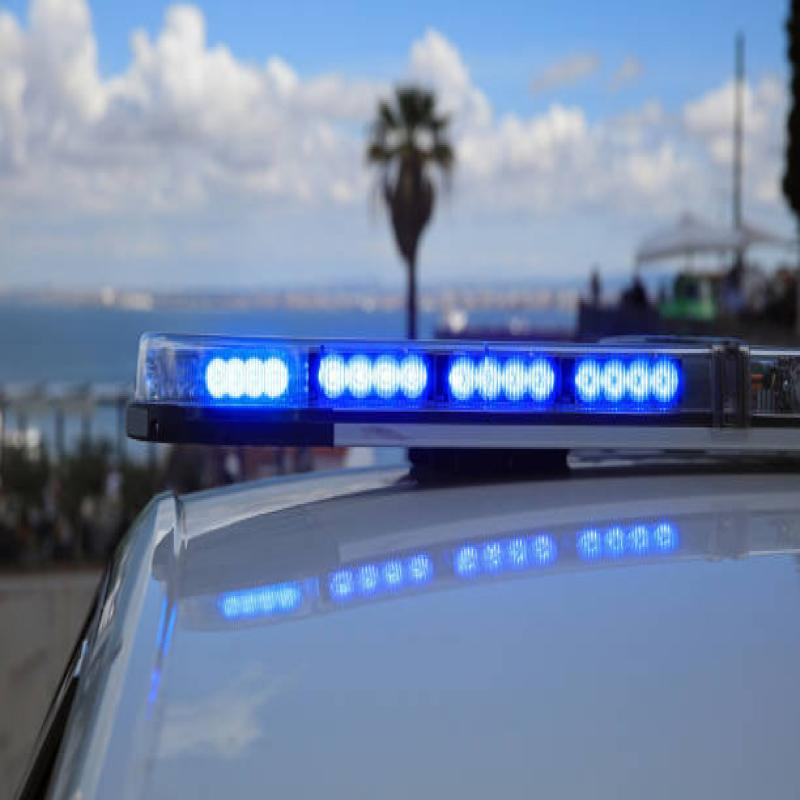AmbulanceSiren: (127, 292, 800, 482)
